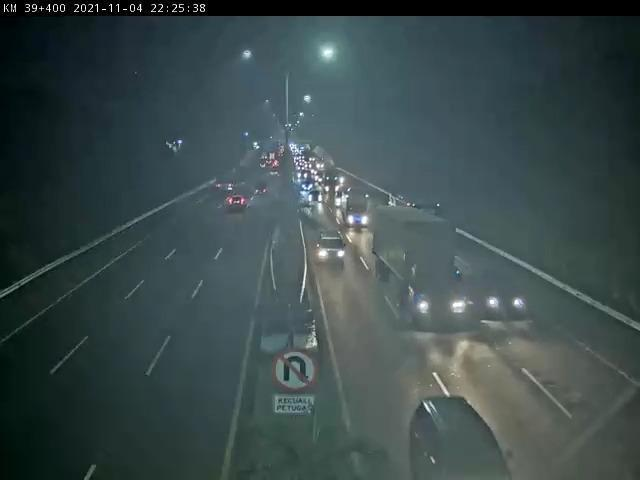car: (472, 259, 531, 324), (316, 233, 350, 267), (226, 195, 248, 213), (307, 189, 327, 206), (253, 179, 270, 197), (298, 179, 316, 193)
truck: (368, 208, 470, 332), (341, 187, 374, 232), (323, 169, 344, 199), (215, 171, 236, 193)
